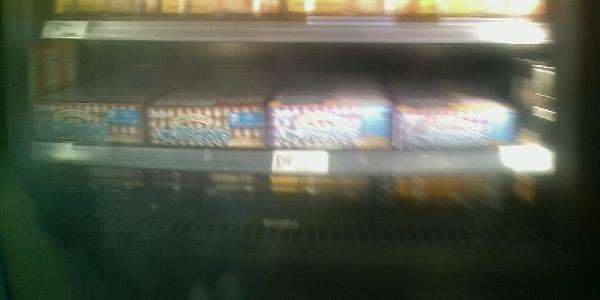icecream: (396, 56, 525, 151), (270, 57, 392, 157), (155, 60, 268, 151), (28, 94, 152, 145)
